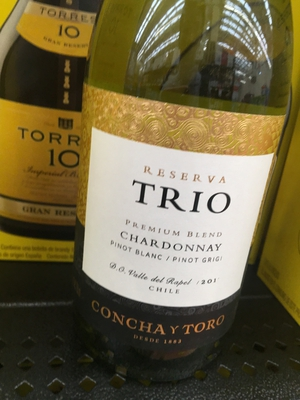trio chardonnay: (71, 25, 294, 390)
